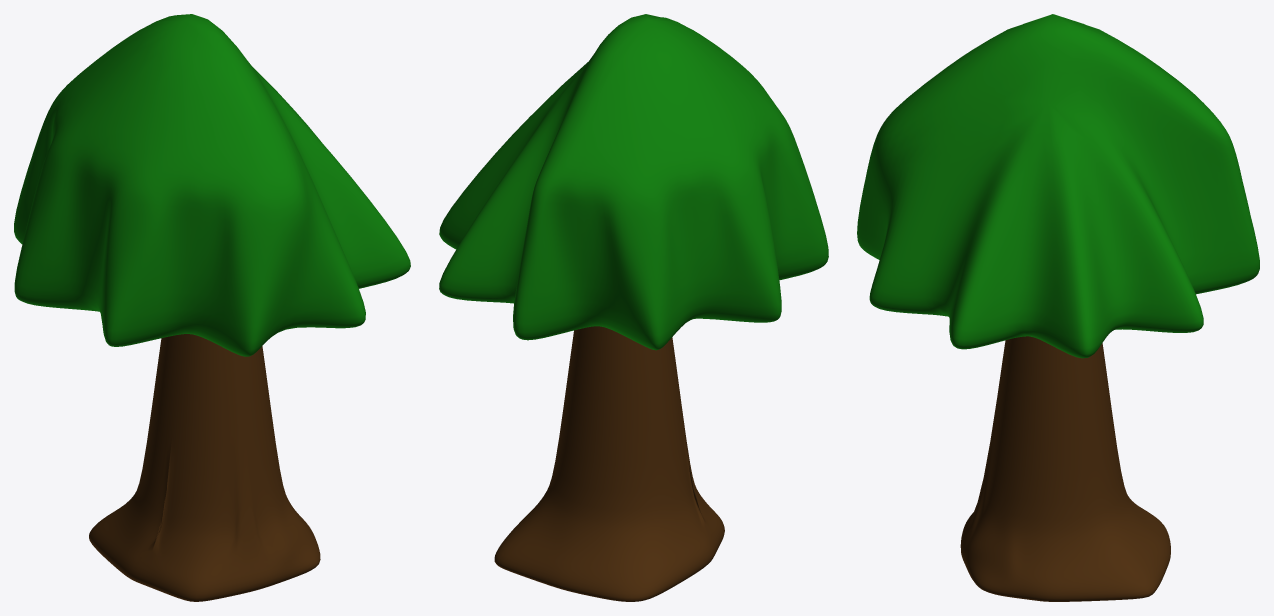
File: tree2.fbx
3 views of the same model, side by side, from view 1: azimuth 30°, elevation 25°; view 2: azimuth 150°, elevation 25°; view 3: azimuth 270°, elevation 25° (orthographic). The views are drawn at different scales.
Visible parts, largest first — view 1: tree.002; view 2: tree.002; view 3: tree.002.
Boxes of the visible parts, box(x1,y1,x2,y2) form: tree.002: box(14, 14, 410, 601); tree.002: box(439, 14, 828, 601); tree.002: box(857, 14, 1259, 601).
Size of the model in its own units: 0.5506 by 0.8284 by 0.5641.
